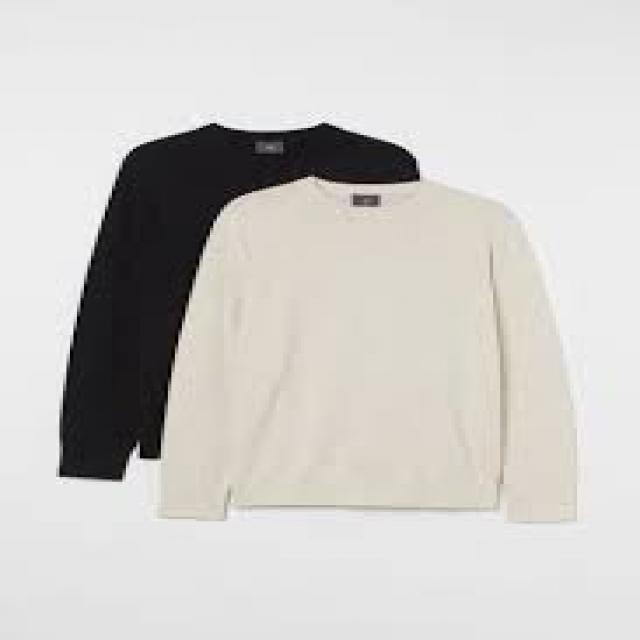plain: (150, 167, 585, 526)
